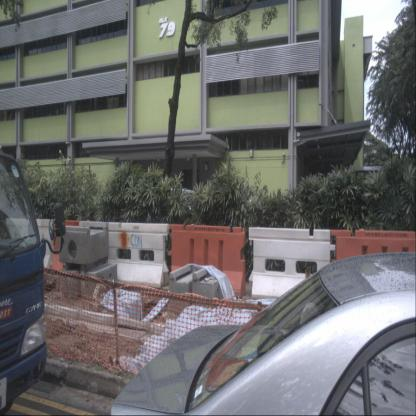barrier: (248, 228, 336, 300), (330, 229, 416, 301), (168, 224, 246, 298), (94, 221, 169, 290), (6, 218, 54, 270), (51, 220, 94, 278)
